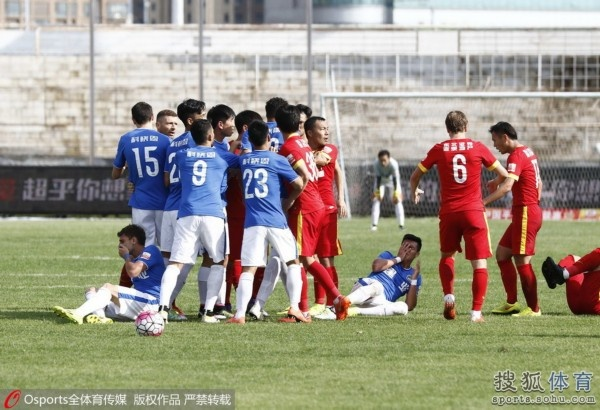falling: (541, 221, 599, 328)
